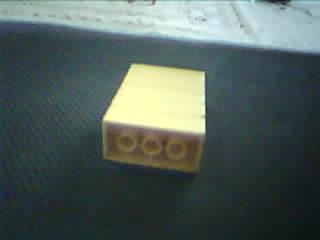lego: (99, 62, 206, 174)
